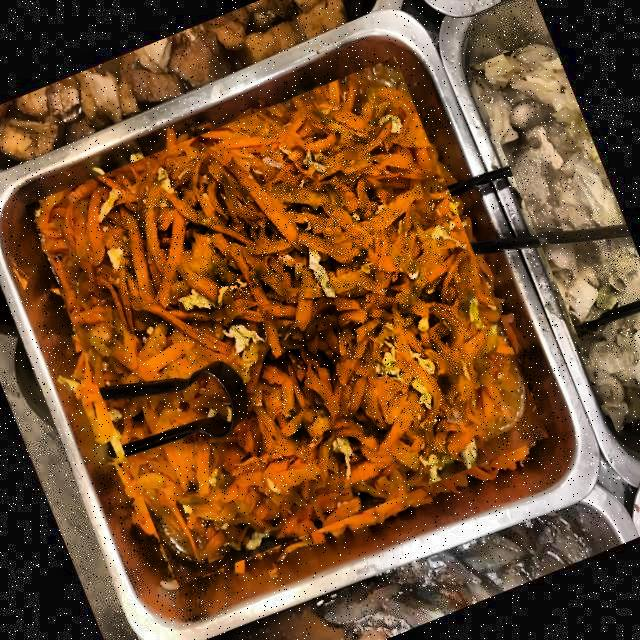Food: (24, 56, 548, 587), (468, 34, 640, 436)
